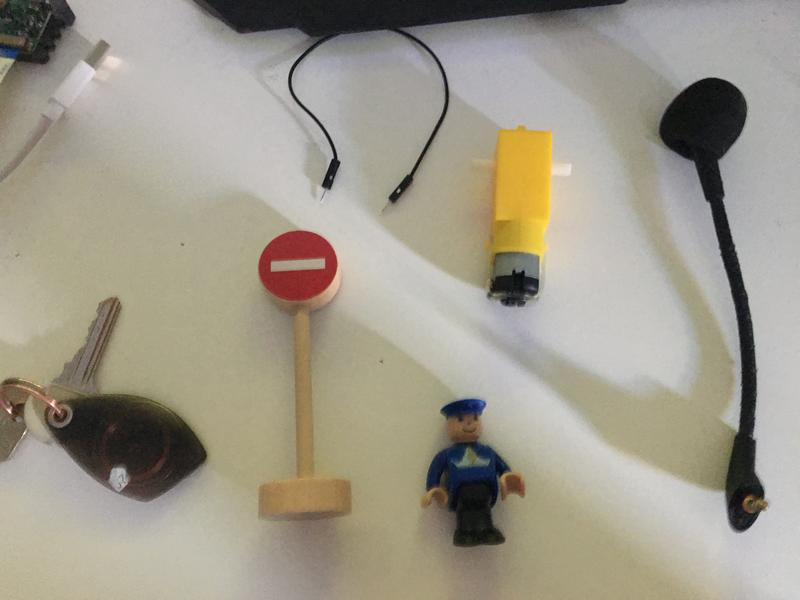Traffic_Sign_No_Entry: (261, 231, 337, 301)
person: (422, 397, 526, 551)
